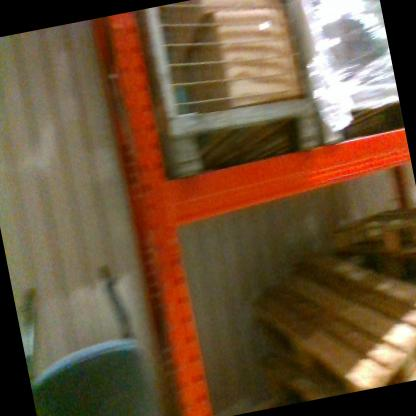pallet: (246, 225, 416, 406), (332, 190, 416, 269)
stillage: (136, 0, 331, 183)
